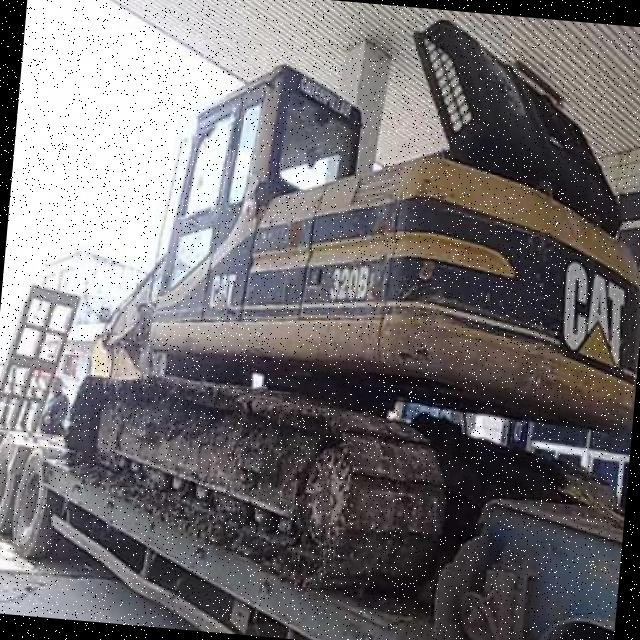Excavator: (32, 0, 640, 617)
